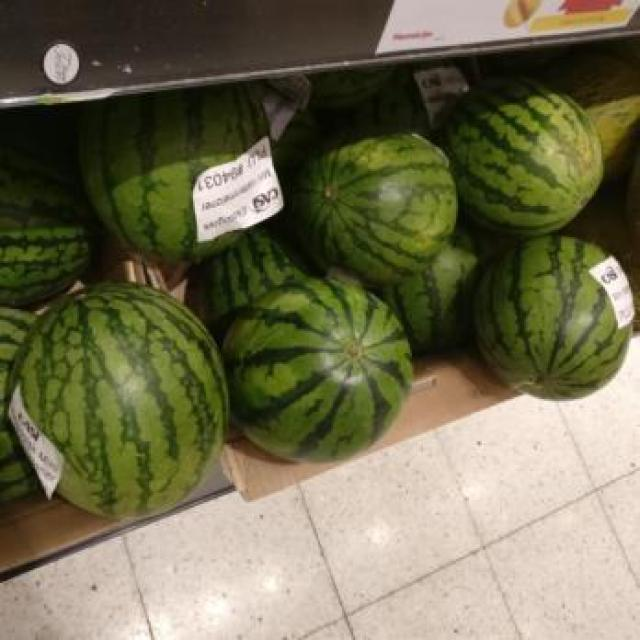Watermelon: (6, 291, 232, 521), (232, 280, 424, 473), (460, 232, 631, 400), (443, 65, 616, 227), (300, 120, 468, 286)
